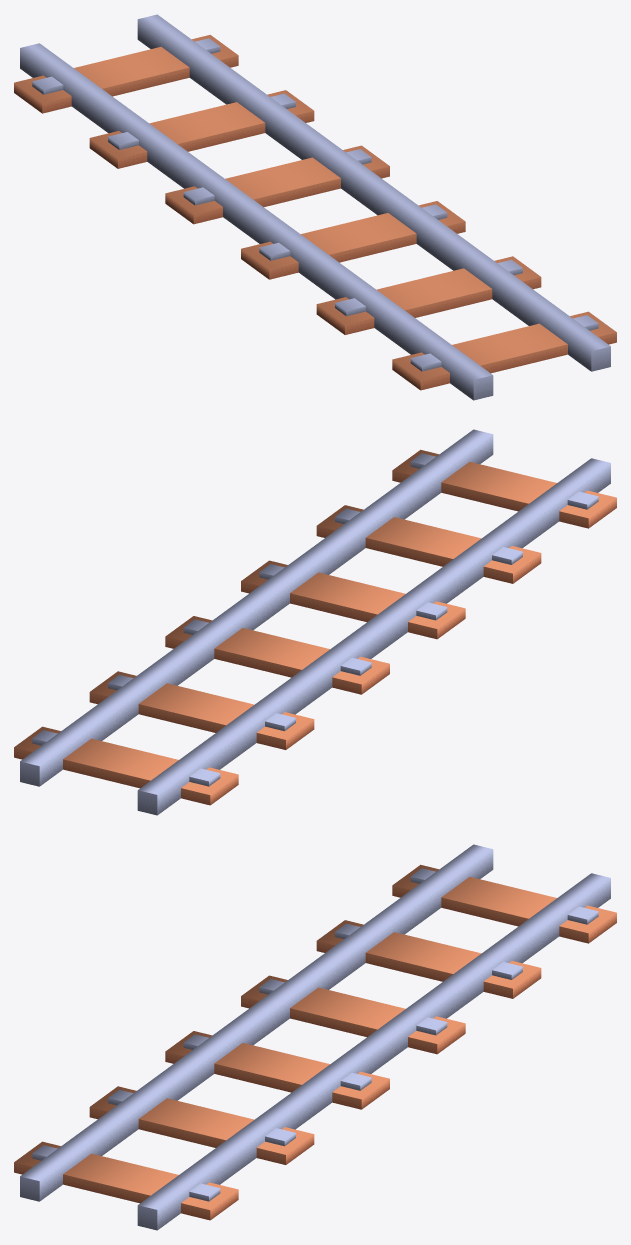
Rendered from railroad-straight.014_lev2.glb.
The picture shows the model from 3 angles, top to bottom: view 1: azimuth 30°, elevation 25°; view 2: azimuth 150°, elevation 25°; view 3: azimuth 330°, elevation 25°; orthographic projection.
Visible parts, largest first — view 1: railroad-straight.014_lev2; view 2: railroad-straight.014_lev2; view 3: railroad-straight.014_lev2.
Boxes of the visible parts, <box> form: railroad-straight.014_lev2: <box>14,14,616,400</box>; railroad-straight.014_lev2: <box>14,429,616,815</box>; railroad-straight.014_lev2: <box>14,844,616,1230</box>.
Bounding box in the file's own units: 1 × 0.1 × 4.
Materials: 1 (1 with a texture image).
